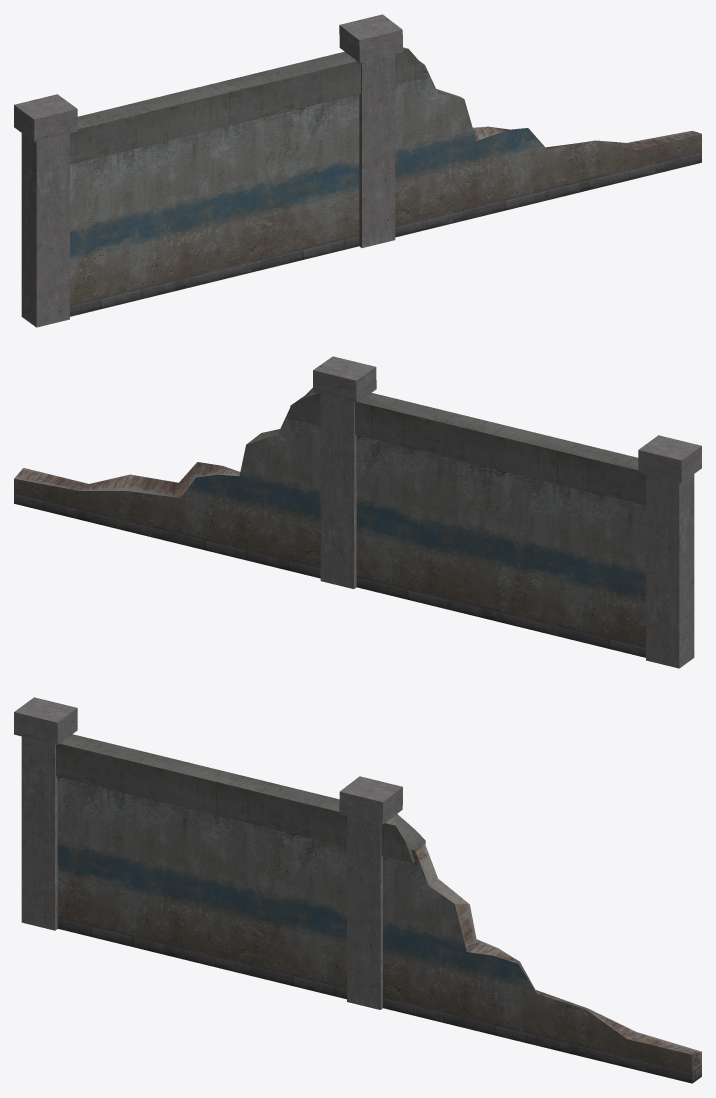
The model's file is Cover_WallA4.glb.
The picture shows the model from 3 angles, top to bottom: view 1: azimuth 30°, elevation 25°; view 2: azimuth 150°, elevation 25°; view 3: azimuth 330°, elevation 25°; orthographic projection.
Visible parts, largest first — view 1: xiutz_wall_a4; view 2: xiutz_wall_a4; view 3: xiutz_wall_a4.
Part boxes in pixels (x1=…): xiutz_wall_a4: x1=14, y1=14, x2=701, y2=327; xiutz_wall_a4: x1=14, y1=356, x2=701, y2=668; xiutz_wall_a4: x1=14, y1=697, x2=701, y2=1083.
Size of the model in its own units: 9.81 by 2.95 by 0.5131.
1 material, 1 textured.
